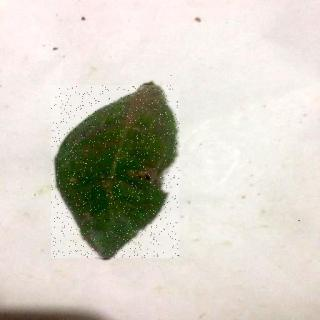Red Leaf Spot: (53, 86, 181, 259)
